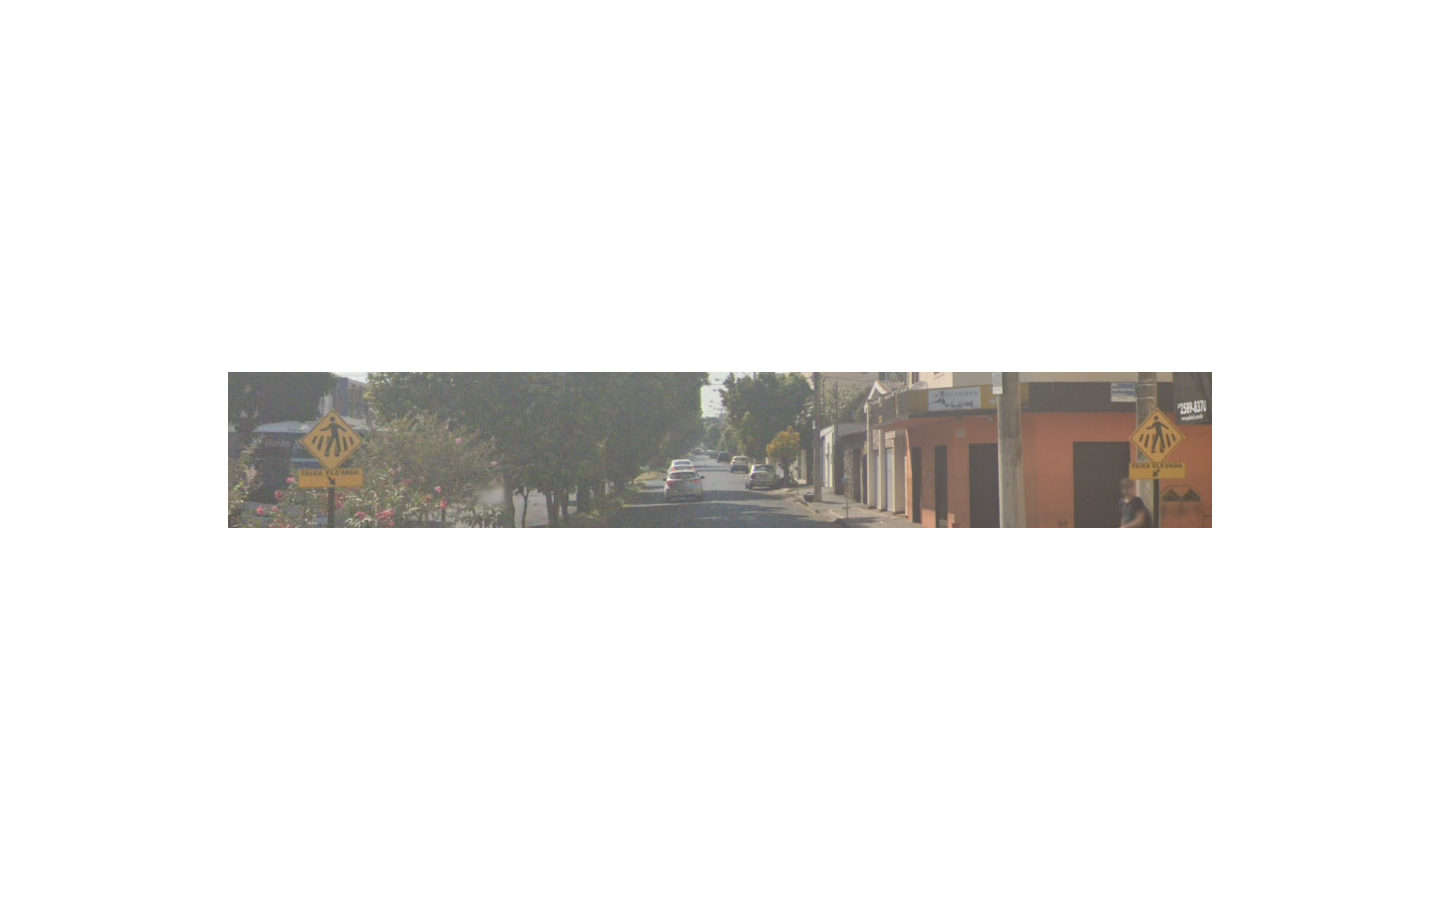telev: (297, 407, 362, 489), (1128, 407, 1186, 480)
